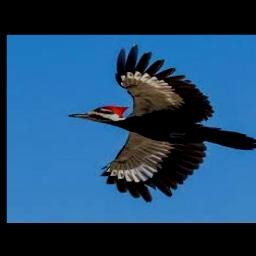Woodpecker: (68, 43, 256, 202)
